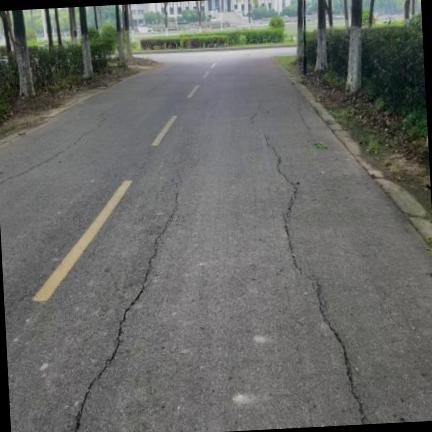Road: (0, 49, 431, 431)
